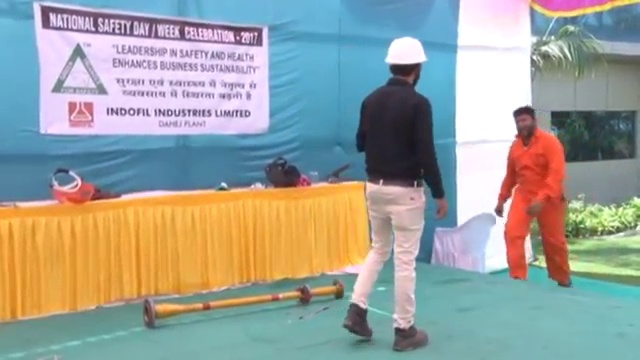helmet: (383, 34, 430, 66)
helmet_off: (511, 106, 540, 140)
helmet_on: (382, 34, 430, 88)
person: (349, 34, 448, 350), (498, 105, 574, 286)
